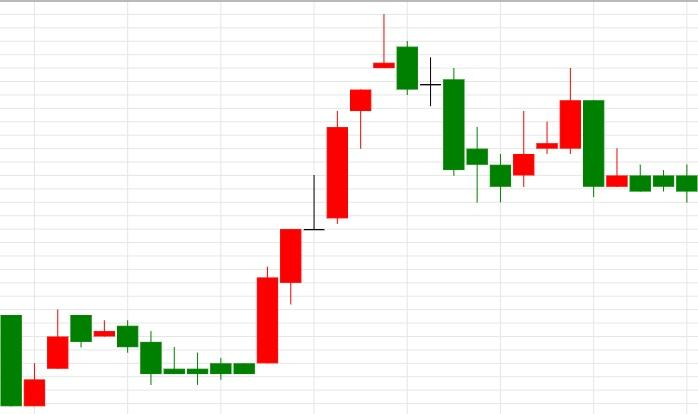hanging_man_fall: (256, 89, 371, 363)
